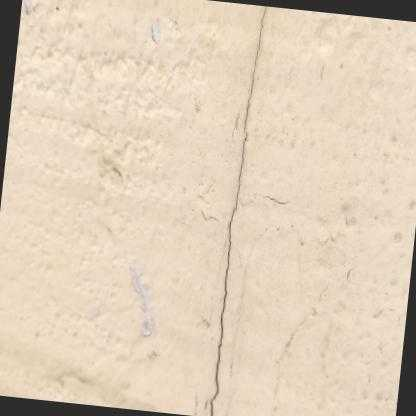crack: (207, 5, 266, 416), (260, 194, 290, 204)
